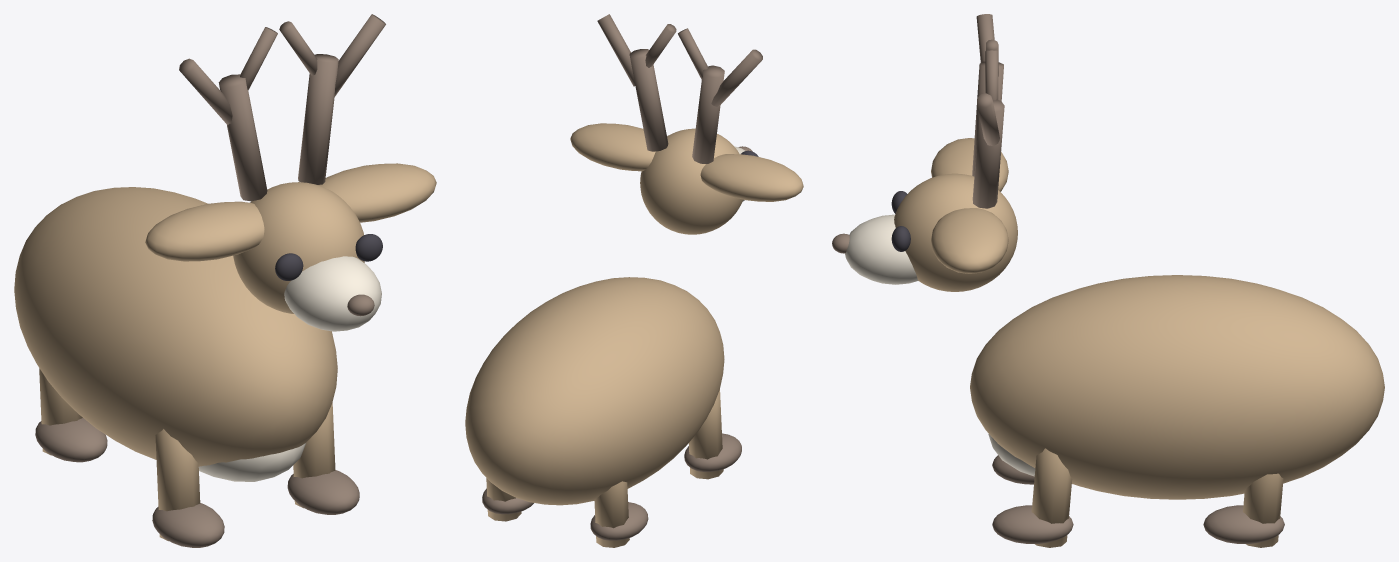
Rendered from other-deer.glb.
3 views of the same model, side by side, from view 1: azimuth 30°, elevation 25°; view 2: azimuth 150°, elevation 25°; view 3: azimuth 270°, elevation 25° (orthographic). The views are drawn at different scales.
Parts seen in each view (by area): view 1: material_9b7146, material_48362b, material_e5d4b7, material_100f13; view 2: material_9b7146, material_48362b; view 3: material_9b7146, material_48362b, material_e5d4b7.
Boxes of the visible parts, x1,y1,x2,y2 form: material_9b7146: (14, 163, 436, 541); material_48362b: (35, 14, 385, 547); material_e5d4b7: (198, 256, 381, 481); material_100f13: (275, 234, 382, 280); material_9b7146: (465, 123, 803, 547); material_48362b: (482, 14, 762, 540); material_9b7146: (894, 138, 1384, 547); material_48362b: (832, 14, 1284, 543); material_e5d4b7: (845, 214, 1072, 484).
Bounding box in the file's own units: 0.8 × 1.39 × 1.49.
